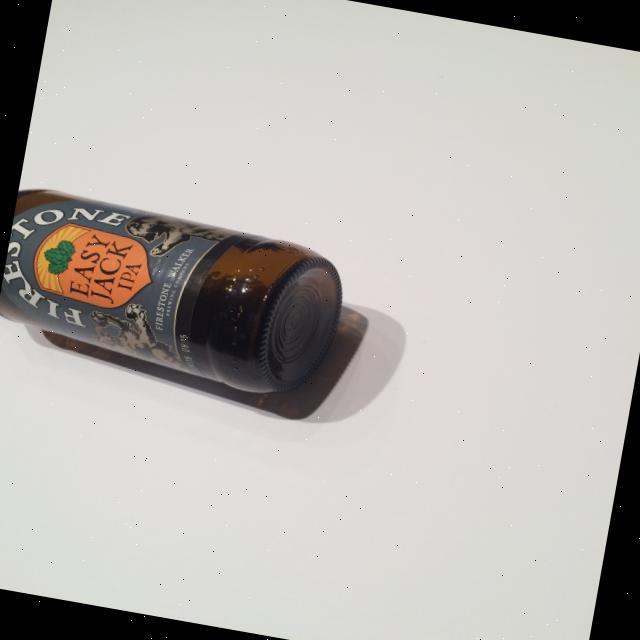glass: (0, 182, 354, 406)
